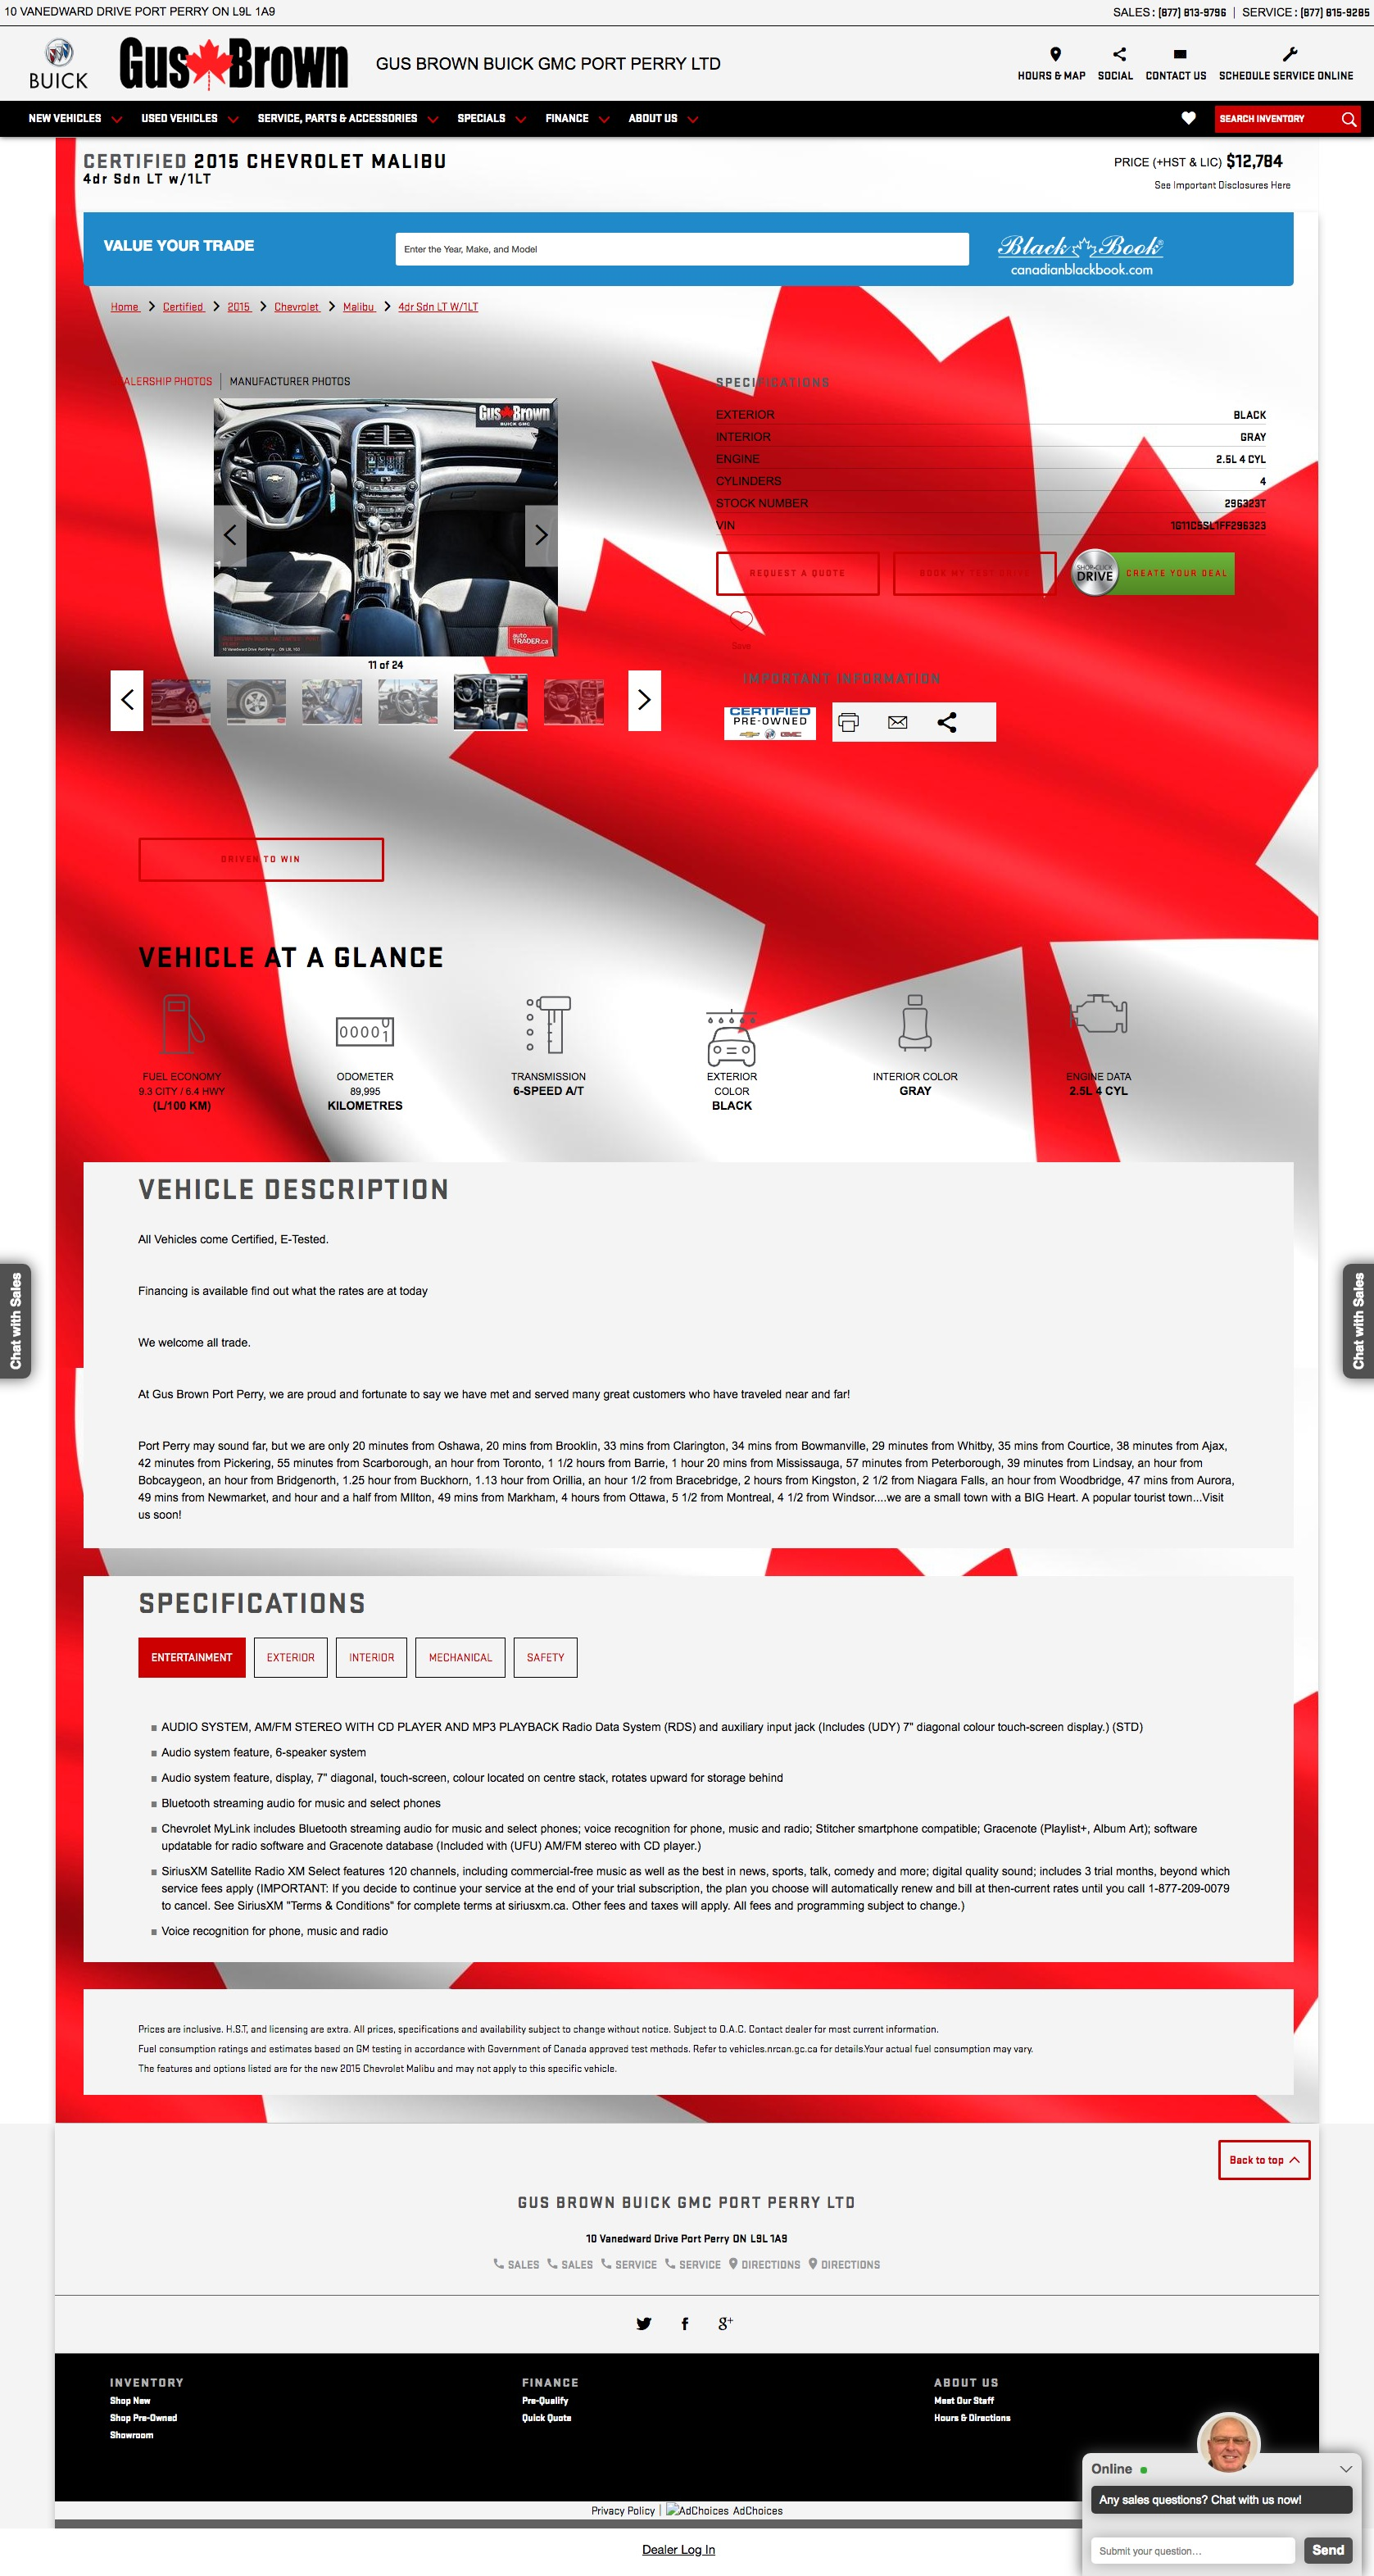car: (638, 690, 652, 710)
